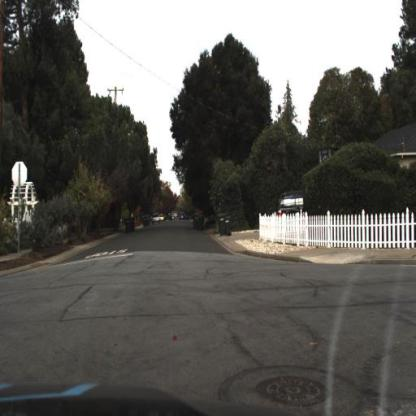car: (277, 190, 306, 223), (154, 214, 162, 225)
